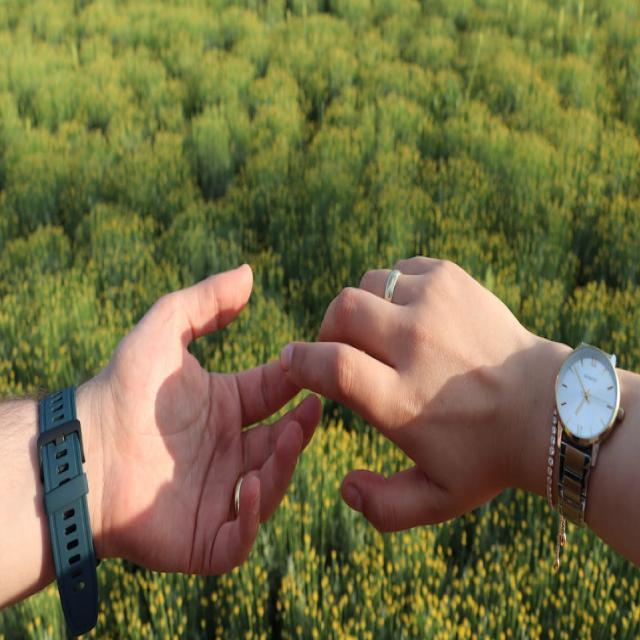Watch: (35, 387, 103, 637), (544, 340, 624, 532)
